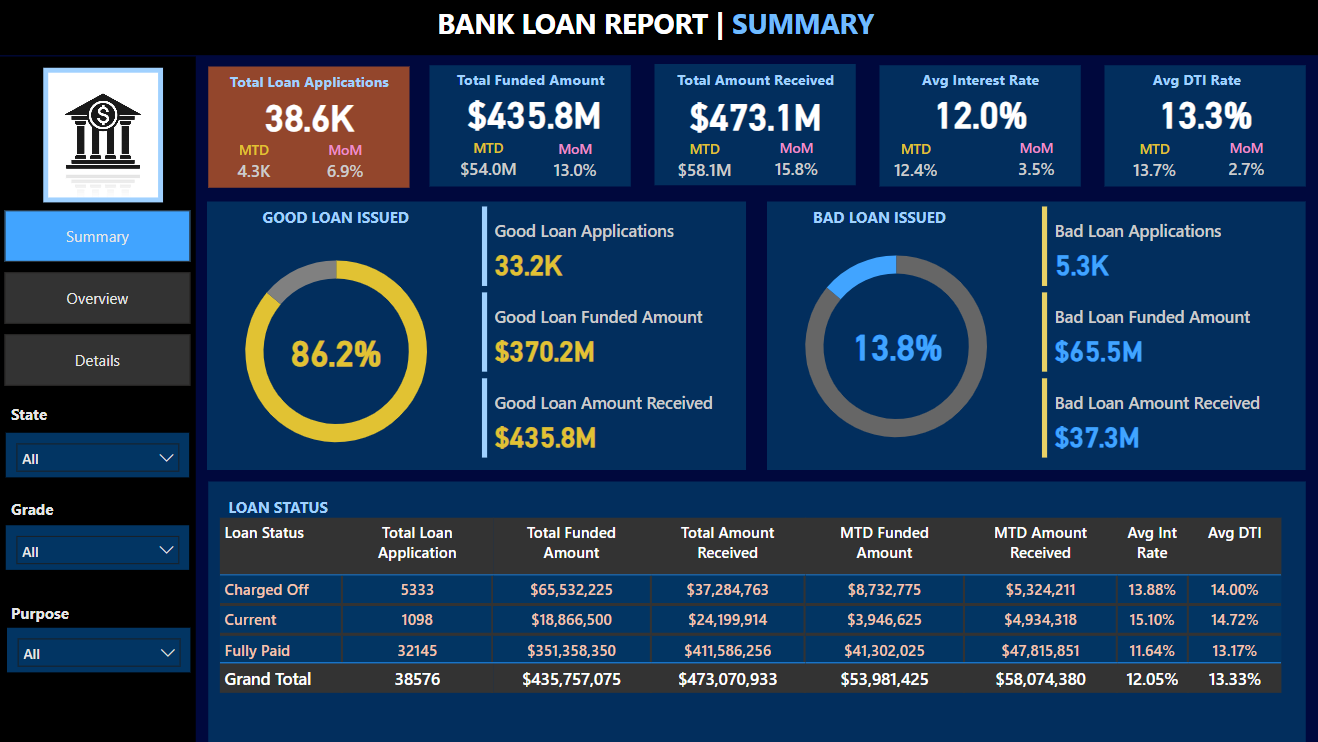

This screenshot's page, from the dashboard's own definition file:
{"tool":"powerbi","page":{"name":"Summary","canvas":[1280,720],"ordinal":0},"visuals":[{"type":"shape","box":[203.4,196.1,522,260],"z":0},{"type":"shape","box":[0,0,1279.5,54.5],"z":1000},{"type":"shape","box":[0,55.4,192.5,664.6],"z":2000},{"type":"textbox","box":[421.3,0,479.4,49.6],"z":3000},{"type":"shape","box":[418.8,64.1,194.9,117.4],"z":3000,"group":"g2"},{"type":"shape","box":[204.6,65.4,194.9,117.4],"z":3000,"group":"g1"},{"type":"shape","box":[854.6,64.1,194.9,117.4],"z":4000,"group":"g3"},{"type":"card","fields":{"Values":["Key Measures.Total Loan Application"]},"box":[245.8,88.4,113.8,48.4],"z":4000,"group":"g1"},{"type":"textbox","box":[237.3,196.1,181.6,32.7],"z":4000},{"type":"shape","box":[1072.5,64.1,194.9,117.4],"z":5000,"group":"g4"},{"type":"textbox","box":[211.9,65.4,181.6,32.7],"z":5000,"group":"g1"},{"type":"card","fields":{"Values":["Key Measures.Good Loan %"]},"box":[273.6,317.2,110.2,48.4],"z":5000},{"type":"shape","box":[636.7,62.9,194.9,117.4],"z":6000,"group":"g5"},{"type":"group","id":"g1","title":"Group 1","box":[204.6,65.4,194.9,117.4],"z":6000},{"type":"card","title":"MTD","fields":{"Values":["Key Measures.MTD Loan Applications"]},"box":[214.3,136.8,69,46],"z":6000,"group":"g1"},{"type":"group","id":"g2","title":"Group 2","box":[418.8,62.9,194.9,118.6],"z":7000},{"type":"card","fields":{"Values":["Key Measures.Total Funded Amount"]},"box":[446.6,85.9,147.7,48.4],"z":7000,"group":"g2"},{"type":"card","title":"MoM","fields":{"Values":["Key Measures.MoM Loan Applications"]},"box":[302.7,136.8,69,46],"z":7000,"group":"g1"},{"type":"textbox","box":[426.1,62.9,181.6,32.7],"z":8000,"group":"g2"},{"type":"group","id":"g3","title":"Group 4","box":[635.5,62.9,414,118.6],"z":8000},{"type":"group","id":"g4","title":"Group 5","box":[1071.3,62.9,196.1,118.6],"z":9000},{"type":"card","title":"MTD","fields":{"Values":["Key Measures.MTD Funded Amount"]},"box":[426.1,134.3,99.3,46],"z":9000,"group":"g2"},{"type":"card","title":"MoM","fields":{"Values":["Key Measures.MoM Funded Amount"]},"box":[525.3,135.5,69,46],"z":10000,"group":"g2"},{"type":"shape","box":[745.7,196.1,521.7,260.3],"z":10000},{"type":"card","fields":{"Values":["Key Measures.Total Amount Received"]},"box":[660.9,87.1,147.7,48.4],"z":11000,"group":"g5"},{"type":"donutChart","fields":{"Category":["financial_loan.Good vs Bad Loan"],"Y":["Key Measures.Total Loan Application"]},"box":[203.4,226.4,250.6,230],"z":11000},{"type":"textbox","box":[644,62.9,181.6,32.7],"z":12000,"group":"g5"},{"type":"cardVisual","fields":{"Data":["Key Measures.Good Loan Applications","Key Measures.Good Loan Funded Amount","Key Measures.Good Loan Total Amount Received"]},"box":[464.8,196.1,260.3,255.4],"z":12000},{"type":"card","title":"MTD","fields":{"Values":["Key Measures.MTD Amount Received"]},"box":[635.5,135.5,99.3,46],"z":13000,"group":"g5"},{"type":"donutChart","fields":{"Category":["financial_loan.Good vs Bad Loan"],"Y":["Key Measures.Total Loan Application"]},"box":[745.7,221.5,250.6,230],"z":13000},{"type":"card","title":"MoM","fields":{"Values":["Key Measures.MoM Amount Received"]},"box":[739.6,134.3,69,46],"z":14000,"group":"g5"},{"type":"cardVisual","fields":{"Data":["Key Measures.Bad Loan Applications","Key Measures.Bad Loan Funded Amount","Key Measures.Bad Loan Total Amount Received"]},"box":[1007.1,196.1,260.3,255.4],"z":14000},{"type":"card","fields":{"Values":["Key Measures.Avg Int Rate"]},"box":[878.8,85.9,147.7,48.4],"z":15000,"group":"g3"},{"type":"textbox","box":[763.8,196.1,181.6,32.7],"z":15000},{"type":"card","title":"MoM","fields":{"Values":["Key Measures.MoM Avg Int Rate"]},"box":[972,134.3,69,46],"z":16000,"group":"g3"},{"type":"card","fields":{"Values":["Key Measures.Bad  Loan %"]},"box":[817.1,311.1,110.2,48.4],"z":16000},{"type":"card","title":"MTD","fields":{"Values":["Key Measures.MTD Avg Int"]},"box":[840.1,135.5,99.3,46],"z":17000,"group":"g3"},{"type":"shape","box":[204.6,467.3,1062.8,253],"z":17000},{"type":"textbox","box":[861.9,62.9,181.6,32.7],"z":18000,"group":"g3"},{"type":"tableEx","fields":{"Values":["financial_loan.loan_status","Key Measures.Total Loan Application","Key Measures.Total Funded Amount","Key Measures.Total Amount Received","Key Measures.MTD Funded Amount","Key Measures.MTD Amount Received","Key Measures.Avg Int Rate","Key Measures.Avg DTI"]},"box":[209.4,497.5,1058,204.6],"z":18000},{"type":"card","fields":{"Values":["Key Measures.Avg DTI"]},"box":[1096.7,85.9,147.7,48.4],"z":19000,"group":"g4"},{"type":"textbox","box":[8.5,387.4,72.6,32.7],"z":19000},{"type":"card","title":"MoM","fields":{"Values":["Key Measures.MoM Avg DTI"]},"box":[1175.4,134.3,69,46],"z":20000,"group":"g4"},{"type":"slicer","fields":{"Values":["financial_loan.address_state"]},"box":[8.5,420,177.9,43.6],"z":20000},{"type":"card","title":"MTD","fields":{"Values":["Key Measures.MTD Avg DTI"]},"box":[1071.3,135.5,99.3,46],"z":21000,"group":"g4"},{"type":"slicer","fields":{"Values":["financial_loan.grade"]},"box":[8.5,509.6,177.9,43.6],"z":21000},{"type":"textbox","box":[1071.3,62.9,181.6,32.7],"z":22000,"group":"g4"},{"type":"slicer","fields":{"Values":["financial_loan.purpose"]},"box":[9.7,608.9,177.9,43.6],"z":22000},{"type":"textbox","box":[219.4,477.3,181.6,32.7],"z":23000},{"type":"textbox","box":[8.5,479.4,72.6,32.7],"z":24000},{"type":"group","id":"g5","title":"Group 3","box":[635.5,62.9,196.1,118.6],"z":24002,"group":"g3"},{"type":"textbox","box":[8.5,579.8,90.8,32.7],"z":25000},{"type":"image","box":[44.8,66.6,116.2,130.7],"z":26000},{"type":"pageNavigator","box":[7.3,204.6,180.4,171.9],"z":27000}]}

Visuals, with their boxes in screenshot pixels (x1, y1, x2, y2), scaled from the page's 1280x720 canvas onto the 1318x742 screenshot:
shape: bbox=(209, 202, 747, 470)
shape: bbox=(0, 0, 1317, 56)
shape: bbox=(0, 57, 198, 741)
textbox: bbox=(434, 0, 927, 51)
shape: bbox=(431, 66, 632, 187)
shape: bbox=(211, 67, 411, 188)
shape: bbox=(880, 66, 1081, 187)
card - Key Measures.Total Loan Application: bbox=(253, 91, 370, 141)
textbox: bbox=(244, 202, 431, 236)
shape: bbox=(1104, 66, 1305, 187)
textbox: bbox=(218, 67, 405, 101)
card - Key Measures.Good Loan %: bbox=(282, 327, 395, 377)
shape: bbox=(656, 65, 856, 186)
"Group 1" group: bbox=(211, 67, 411, 188)
"MTD" card: bbox=(221, 141, 292, 188)
"Group 2" group: bbox=(431, 65, 632, 187)
card - Key Measures.Total Funded Amount: bbox=(460, 89, 612, 138)
"MoM" card: bbox=(312, 141, 383, 188)
textbox: bbox=(439, 65, 626, 99)
"Group 4" group: bbox=(654, 65, 1081, 187)
"Group 5" group: bbox=(1103, 65, 1305, 187)
"MTD" card: bbox=(439, 138, 541, 186)
"MoM" card: bbox=(541, 140, 612, 187)
shape: bbox=(768, 202, 1305, 470)
card - Key Measures.Total Amount Received: bbox=(681, 90, 833, 140)
donutChart - financial_loan.Good vs Bad Loan x Key Measures.Total Loan Application: bbox=(209, 233, 467, 470)
textbox: bbox=(663, 65, 850, 99)
cardVisual - Key Measures.Good Loan Applications x Key Measures.Good Loan Funded Amount: bbox=(479, 202, 747, 465)
"MTD" card: bbox=(654, 140, 757, 187)
donutChart - financial_loan.Good vs Bad Loan x Key Measures.Total Loan Application: bbox=(768, 228, 1026, 465)
"MoM" card: bbox=(762, 138, 833, 186)
cardVisual - Key Measures.Bad Loan Applications x Key Measures.Bad Loan Funded Amount: bbox=(1037, 202, 1305, 465)
card - Key Measures.Avg Int Rate: bbox=(905, 89, 1057, 138)
textbox: bbox=(786, 202, 973, 236)
"MoM" card: bbox=(1001, 138, 1072, 186)
card - Key Measures.Bad  Loan %: bbox=(841, 321, 955, 370)
"MTD" card: bbox=(865, 140, 967, 187)
shape: bbox=(211, 482, 1305, 741)
textbox: bbox=(887, 65, 1074, 99)
tableEx - financial_loan.loan_status x Key Measures.Total Loan Application: bbox=(216, 513, 1305, 724)
card - Key Measures.Avg DTI: bbox=(1129, 89, 1281, 138)
textbox: bbox=(9, 399, 84, 433)
"MoM" card: bbox=(1210, 138, 1281, 186)
slicer - financial_loan.address_state: bbox=(9, 433, 192, 478)
"MTD" card: bbox=(1103, 140, 1205, 187)
slicer - financial_loan.grade: bbox=(9, 525, 192, 570)
textbox: bbox=(1103, 65, 1290, 99)
slicer - financial_loan.purpose: bbox=(10, 628, 193, 672)
textbox: bbox=(226, 492, 413, 526)
textbox: bbox=(9, 494, 84, 528)
"Group 3" group: bbox=(654, 65, 856, 187)
textbox: bbox=(9, 598, 102, 631)
image: bbox=(46, 69, 166, 203)
pageNavigator: bbox=(8, 211, 193, 388)
